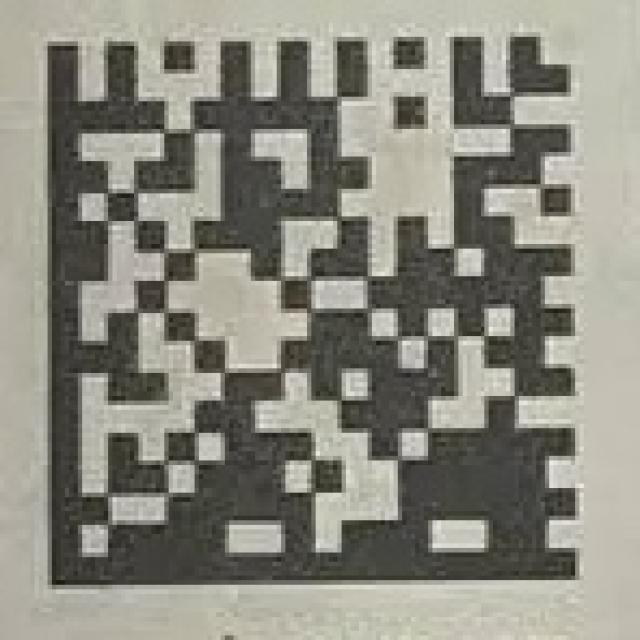QR_CODE: (46, 32, 578, 583)
